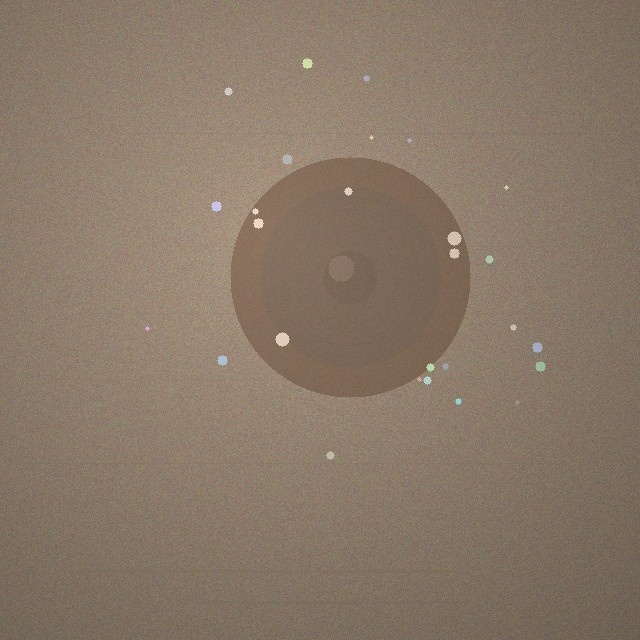overburn: (230, 157, 470, 397)
